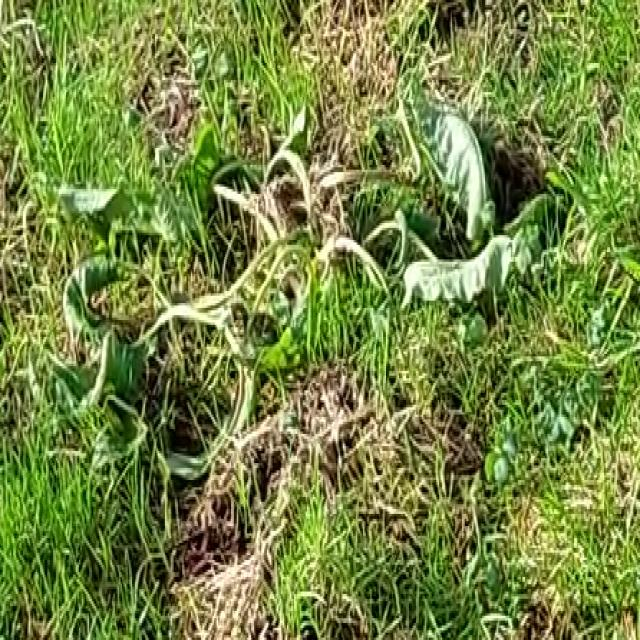organic waste: (46, 80, 574, 475)
